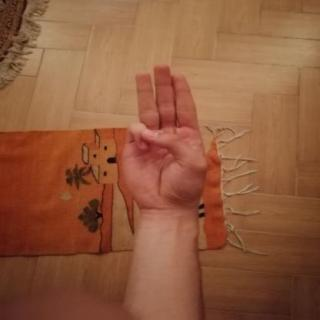THA: (108, 56, 220, 219)
